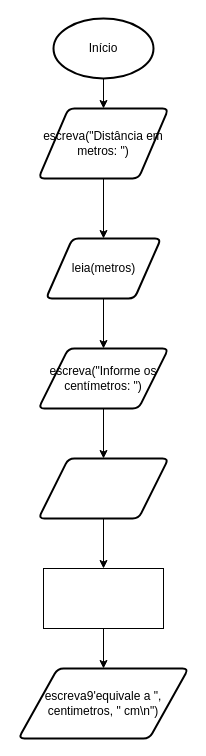
Some shapes in this 206 by 756 pixel diagram are drawn without their labels. Here are the shapes that lost their labels. From the top down, the centre of each, then its label:
(103,488): leia(centimetros)
(103,598): centimetros = metros * 100
